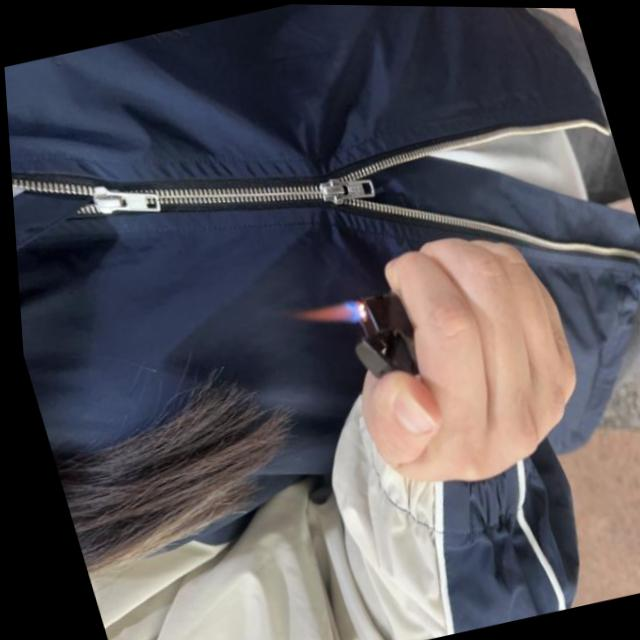Fire: (284, 294, 363, 333)
